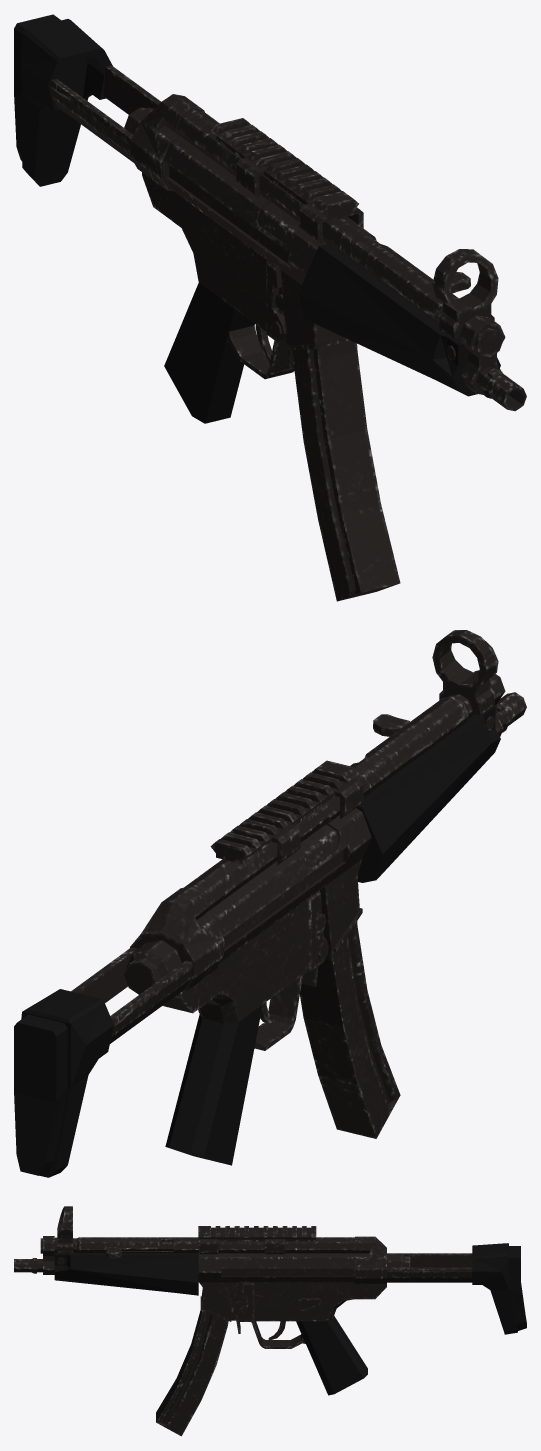
Rendered from gun.obj.
3 renders of one model, top to bottom at view 1: azimuth 30°, elevation 25°; view 2: azimuth 150°, elevation 25°; view 3: azimuth 270°, elevation 25°, orthographic. The views are drawn at different scales.
Visible parts, largest first — view 1: gun_Mesh.025; view 2: gun_Mesh.025; view 3: gun_Mesh.025.
Boxes of the visible parts, left/top/right/bottom form: gun_Mesh.025: left=14, top=14, right=526, bottom=601; gun_Mesh.025: left=14, top=630, right=526, bottom=1177; gun_Mesh.025: left=14, top=1206, right=526, bottom=1436.
Size of the model in its own units: 0.0345 by 0.1601 by 0.3332.
